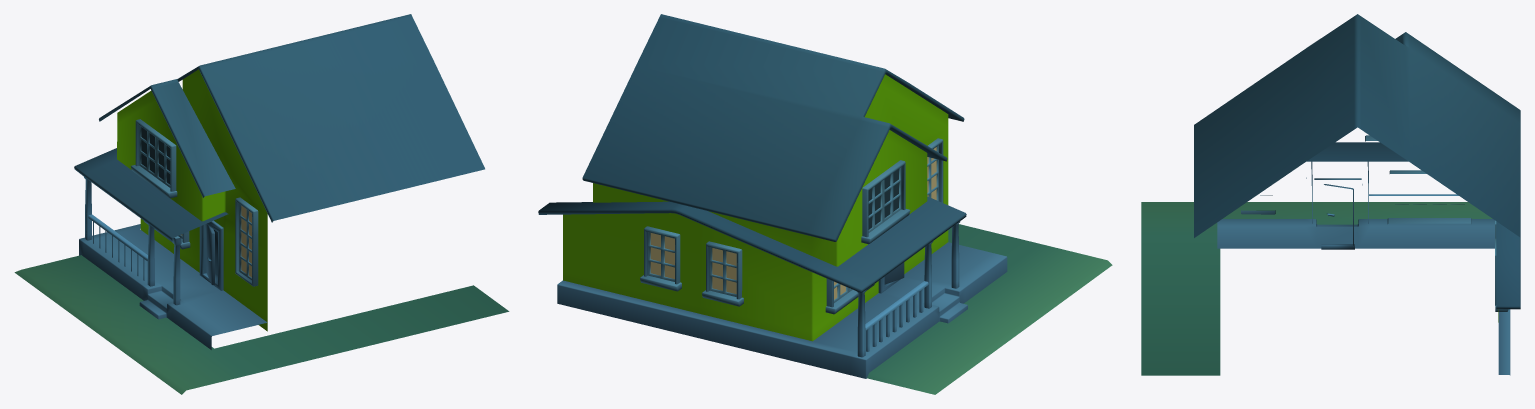
File: House01Night.glb
3 views of the same model, side by side, from view 1: azimuth 30°, elevation 25°; view 2: azimuth 150°, elevation 25°; view 3: azimuth 270°, elevation 25° (orthographic). The views are drawn at different scales.
Parts seen in each view (by area): view 1: House01Night; view 2: House01Night; view 3: House01Night.
Part boxes in pixels (x1,y1,x2,y2): House01Night: (14, 14, 509, 394); House01Night: (538, 14, 1112, 394); House01Night: (1141, 14, 1520, 375).
Bounding box in the file's own units: 22.15 × 13.13 × 17.9.
Materials: 2 (1 with a texture image).
